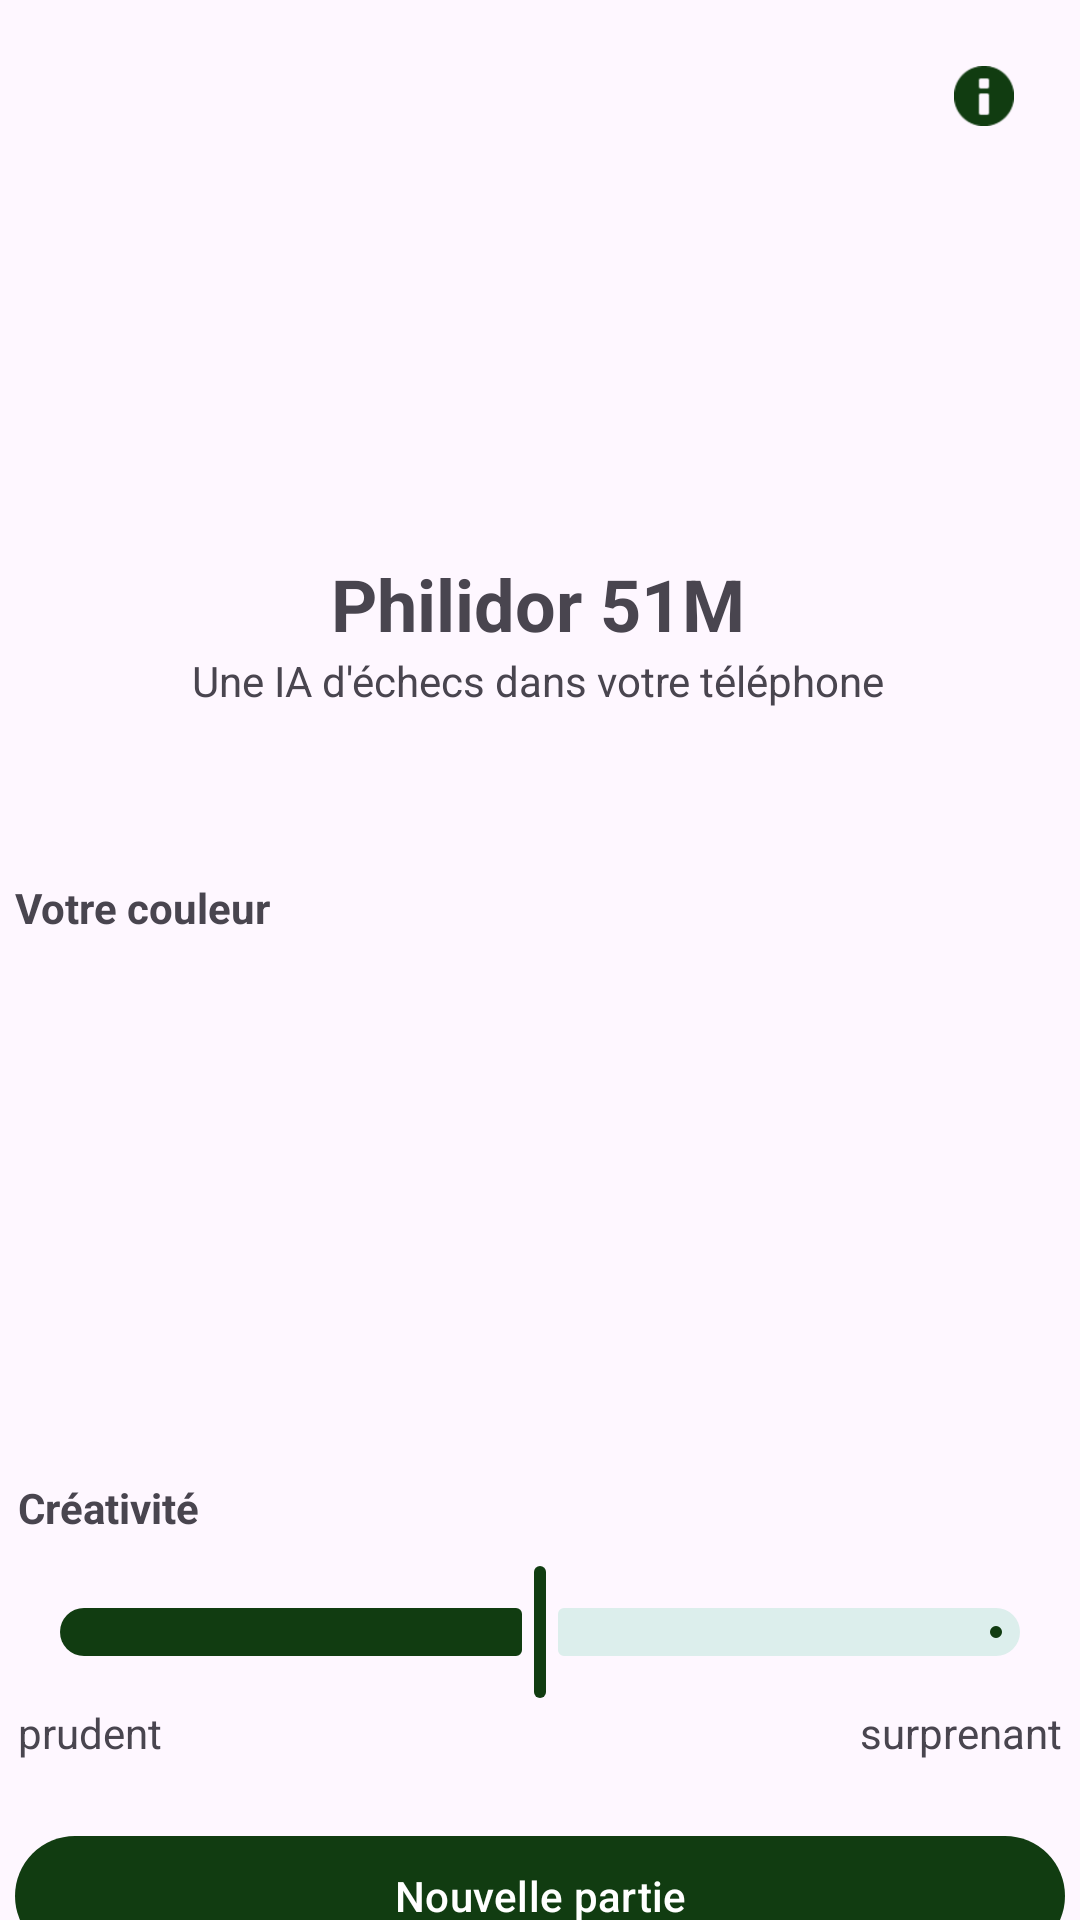

Icon click points for this 1080px x 1920px phone screenshot, format [x,y]:
info: [984,96]
